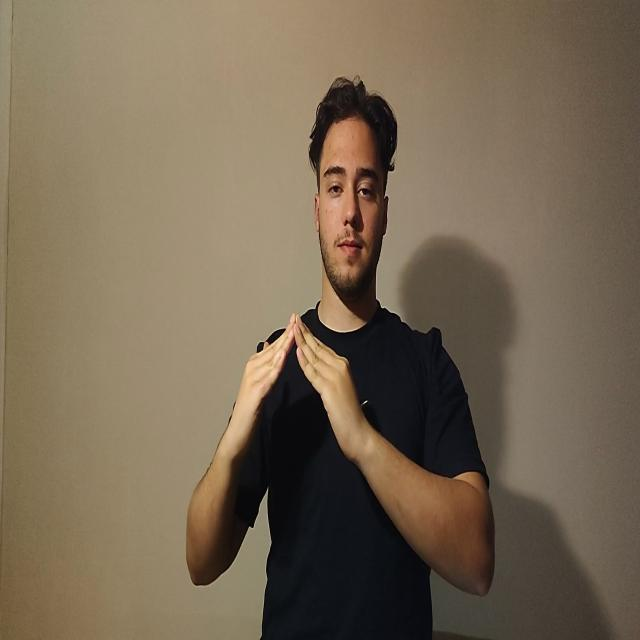house: (229, 314, 361, 476)
